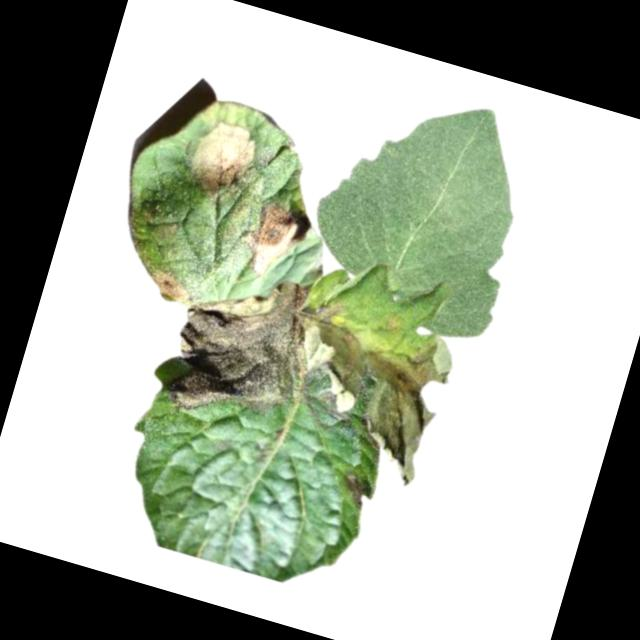Late_blight: (280, 299, 461, 491), (158, 254, 323, 437), (172, 110, 267, 209), (232, 195, 311, 285), (143, 265, 193, 304), (334, 471, 376, 515)
